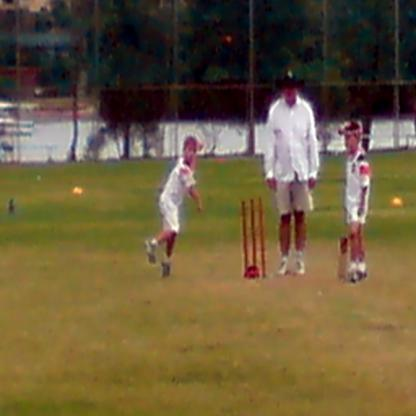Ball: (38, 177, 41, 182)
